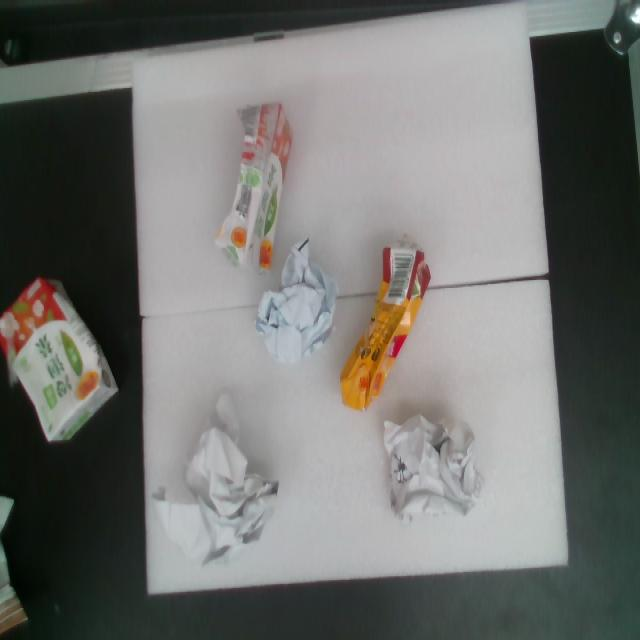juicebox: (0, 248, 149, 463), (311, 224, 458, 432), (194, 85, 310, 282)
paper: (93, 372, 322, 609), (216, 224, 372, 393), (357, 399, 499, 542)
